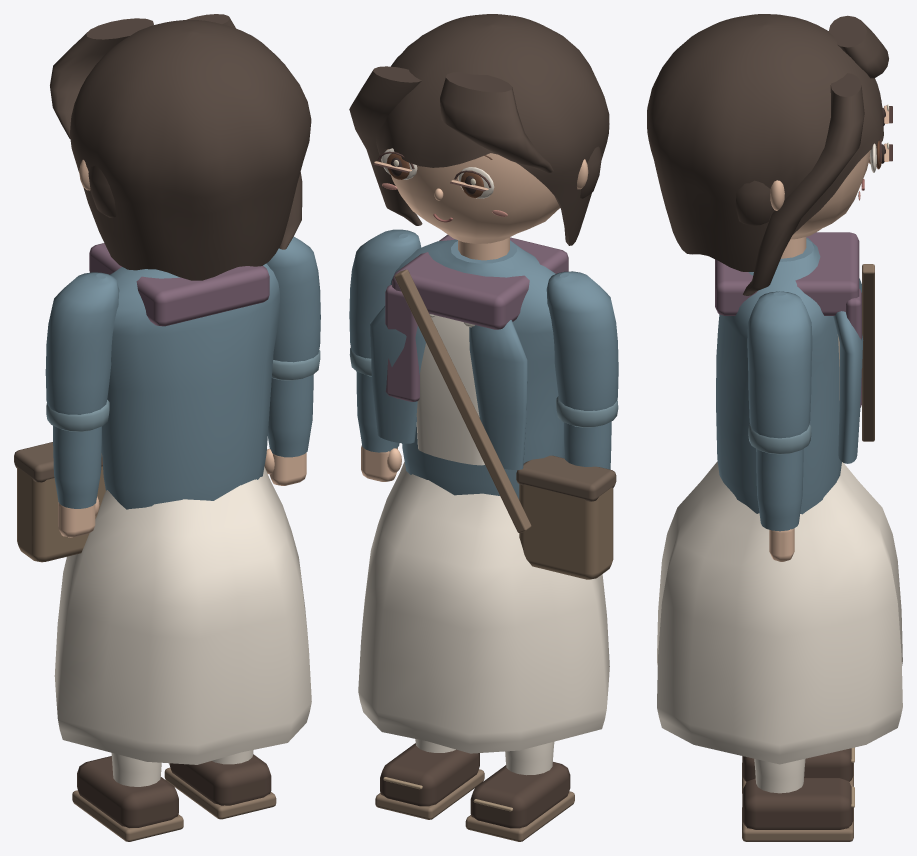
Rendered from visitor-b-native-v3.glb.
The picture shows the model from 3 angles, left to right: view 1: azimuth 30°, elevation 25°; view 2: azimuth 150°, elevation 25°; view 3: azimuth 270°, elevation 25°; orthographic projection. The views are drawn at different scales.
Parts seen in each view (by area): view 1: body.surface.1, head.surface.9, body.surface.0, arm-left.surface.30, body.surface.3, arm-right.surface.39, head.surface.10, foot-left.surface.36, body.surface.5, forearm-left.surface.32, foot-right.surface.45, forearm-right.surface.41 (+9 smaller); view 2: body.surface.1, head.surface.9, body.surface.0, head.surface.10, body.surface.3, head.surface.7, arm-left.surface.30, body.surface.5, arm-right.surface.39, body.surface.4, foot-left.surface.36, foot-right.surface.45 (+10 smaller); view 3: body.surface.1, head.surface.9, body.surface.0, head.surface.10, arm-right.surface.39, body.surface.3, foot-right.surface.45, forearm-right.surface.41, body.surface.4, head.surface.7, foot-left.surface.36, shin-right.surface.44 (+4 smaller).
Part boxes in pixels (<box>): body.surface.1: <box>54,466,311,764</box>; head.surface.9: <box>70,20,311,280</box>; body.surface.0: <box>101,263,279,509</box>; arm-left.surface.30: <box>45,272,119,414</box>; body.surface.3: <box>89,243,269,326</box>; arm-right.surface.39: <box>266,237,320,362</box>; head.surface.10: <box>50,14,302,249</box>; foot-left.surface.36: <box>77,756,178,827</box>; body.surface.5: <box>17,466,105,562</box>; forearm-left.surface.32: <box>53,425,101,508</box>; foot-right.surface.45: <box>169,754,271,805</box>; forearm-right.surface.41: <box>268,374,313,457</box>; body.surface.1: <box>358,314,609,753</box>; head.surface.9: <box>375,14,609,245</box>; body.surface.0: <box>370,239,564,499</box>; head.surface.10: <box>349,66,553,225</box>; body.surface.3: <box>385,234,568,401</box>; head.surface.7: <box>387,149,588,243</box>; arm-left.surface.30: <box>546,271,618,410</box>; body.surface.5: <box>519,484,613,579</box>; arm-right.surface.39: <box>349,229,421,358</box>; body.surface.4: <box>394,269,531,532</box>; foot-left.surface.36: <box>470,762,570,828</box>; foot-right.surface.45: <box>380,743,479,806</box>; body.surface.1: <box>657,334,902,764</box>; head.surface.9: <box>647,14,883,271</box>; body.surface.0: <box>716,237,863,514</box>; head.surface.10: <box>743,15,888,295</box>; arm-right.surface.39: <box>747,291,812,438</box>; body.surface.3: <box>715,232,861,407</box>; foot-right.surface.45: <box>742,778,853,829</box>; forearm-right.surface.41: <box>756,449,803,531</box>; body.surface.4: <box>862,264,874,441</box>; head.surface.7: <box>770,150,870,239</box>; foot-left.surface.36: <box>742,748,853,781</box>; shin-right.surface.44: <box>754,758,805,793</box>.
Size of the model in its own units: 0.5971 by 1.63 by 0.4823.
